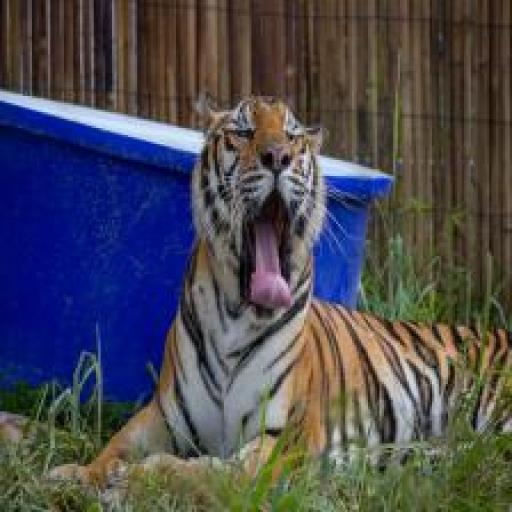Tiger: (73, 91, 512, 512)
